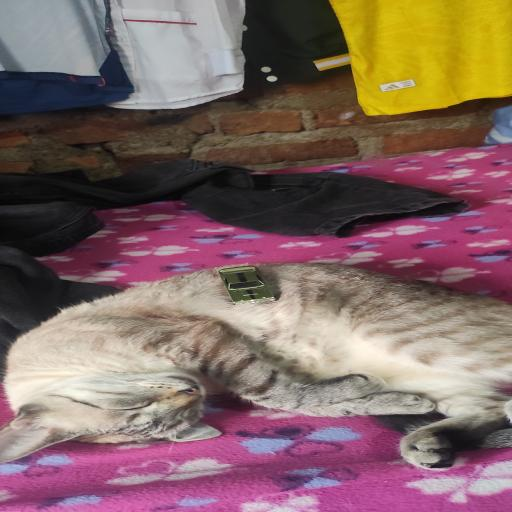Carrito: (219, 266, 276, 305)
